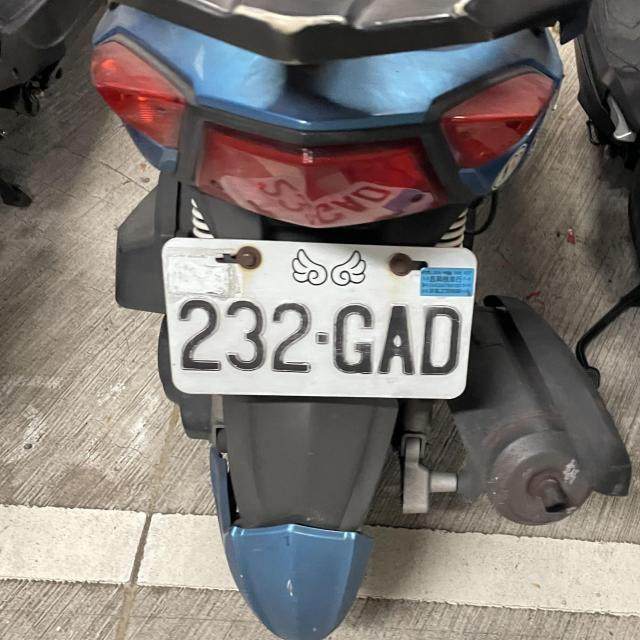W: (155, 230, 483, 400)
